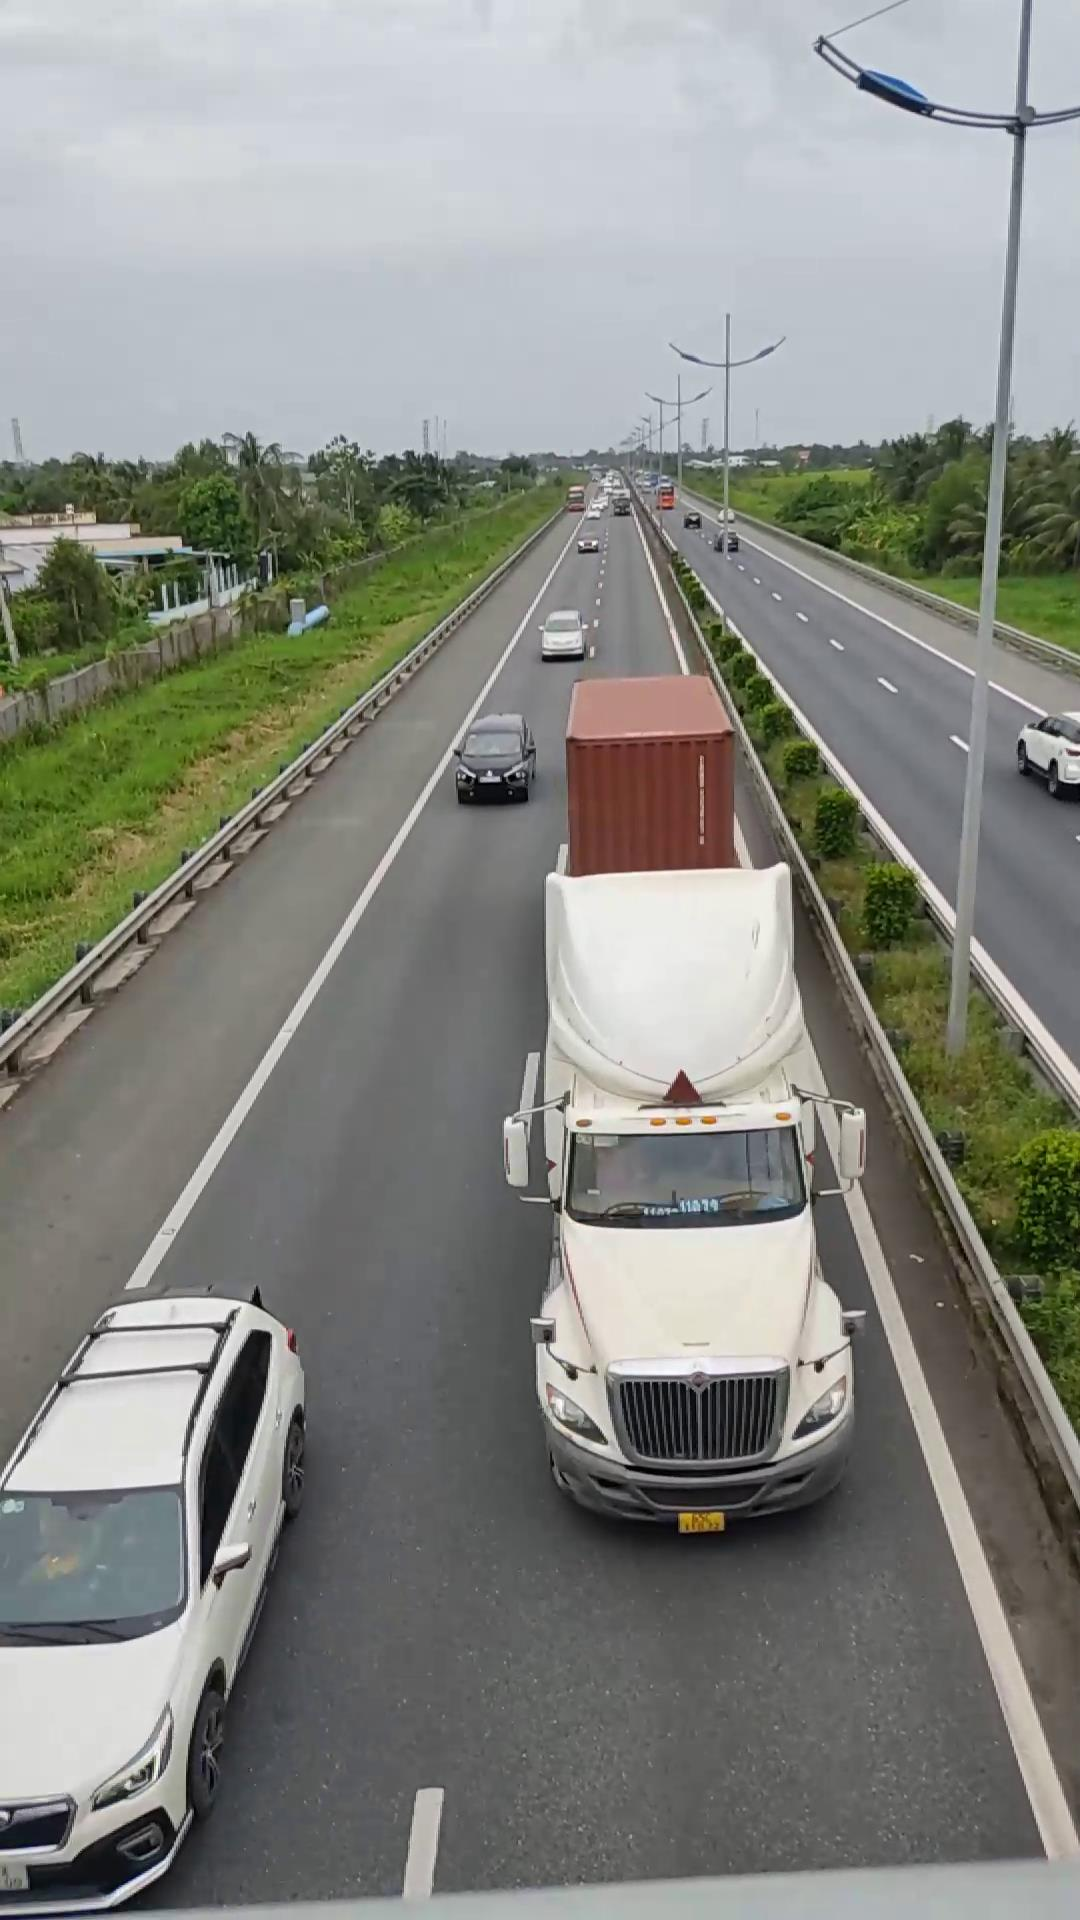car: (0, 1286, 314, 1899), (454, 710, 539, 802), (1015, 709, 1080, 795)
container: (516, 659, 858, 1531)
